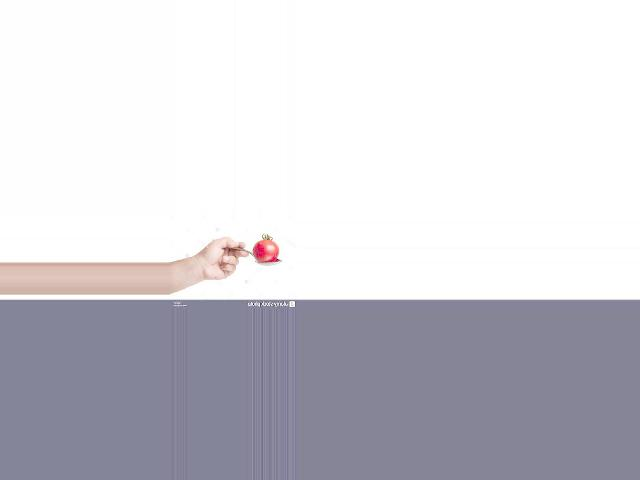tomato: (252, 239, 278, 262)
